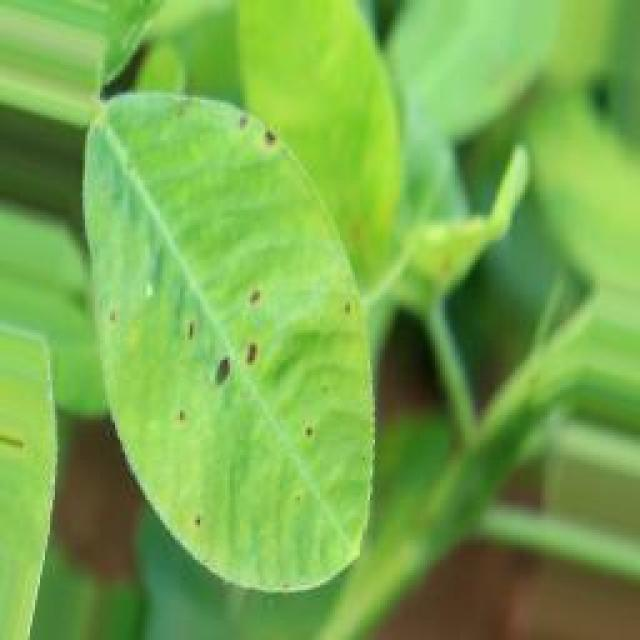Sigatoka: (178, 290, 274, 390), (232, 107, 310, 184), (148, 381, 204, 437), (183, 490, 227, 550), (316, 294, 364, 340), (92, 304, 134, 348), (294, 413, 318, 465)
